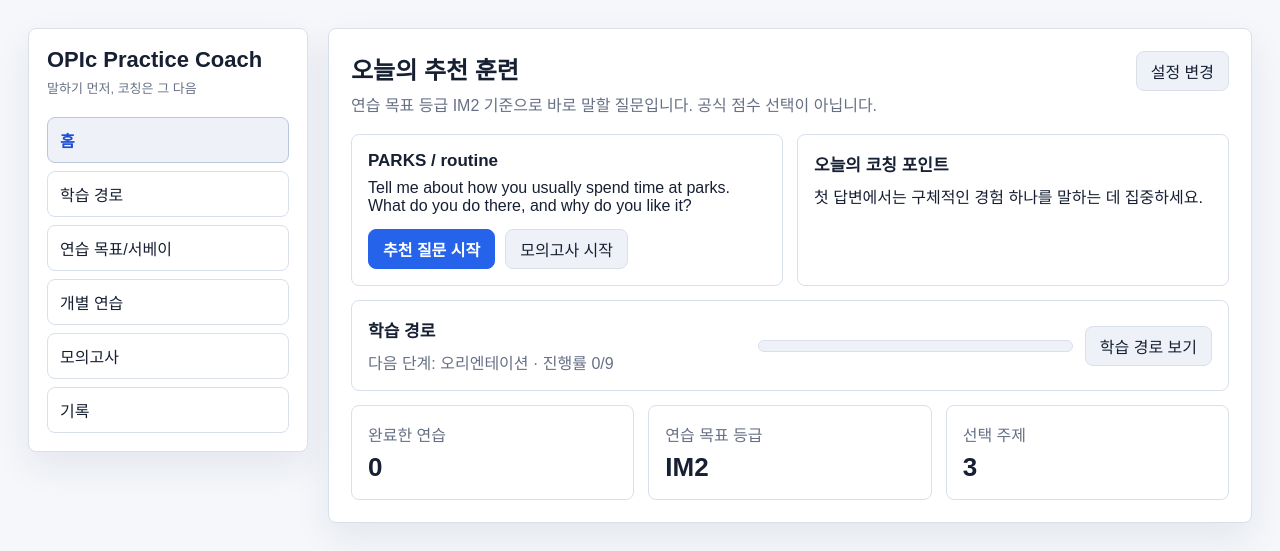
Test case: DS Interviewer prompt UI › limits mock prompt playback to one listen
This screenshot has width=1280, height=551.
Click the button "모의고사" at x=168, y=356, box [47,333,289,379]
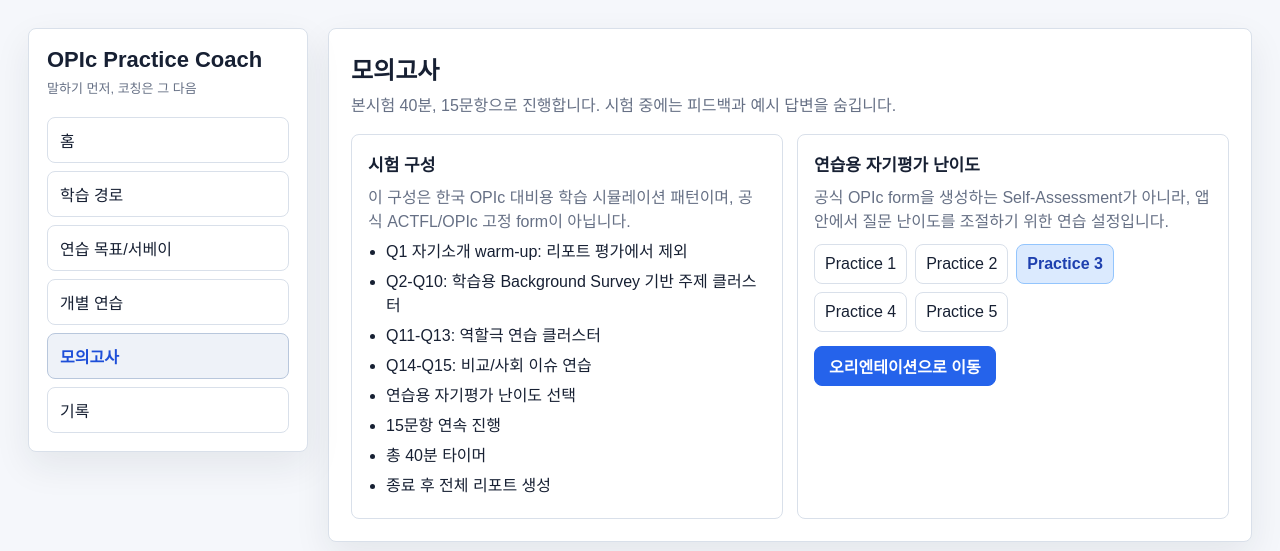
Click the button "오리엔테이션으로 이동" at x=905, y=366, box [814,346,996,386]
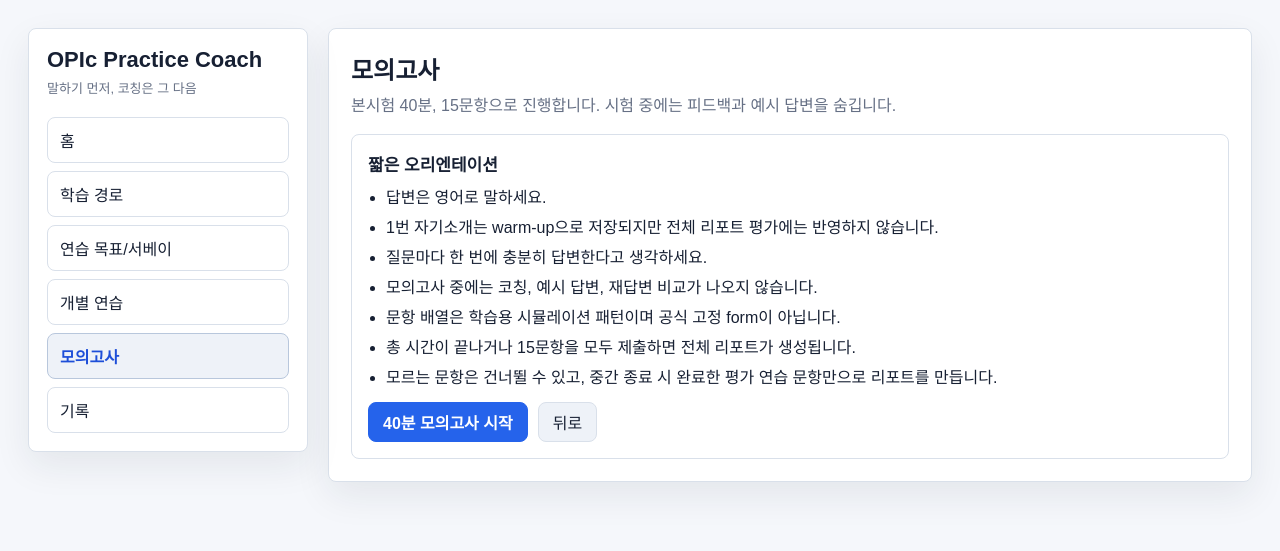
Click the button "40분 모의고사 시작" at x=448, y=422, box [368,402,528,442]
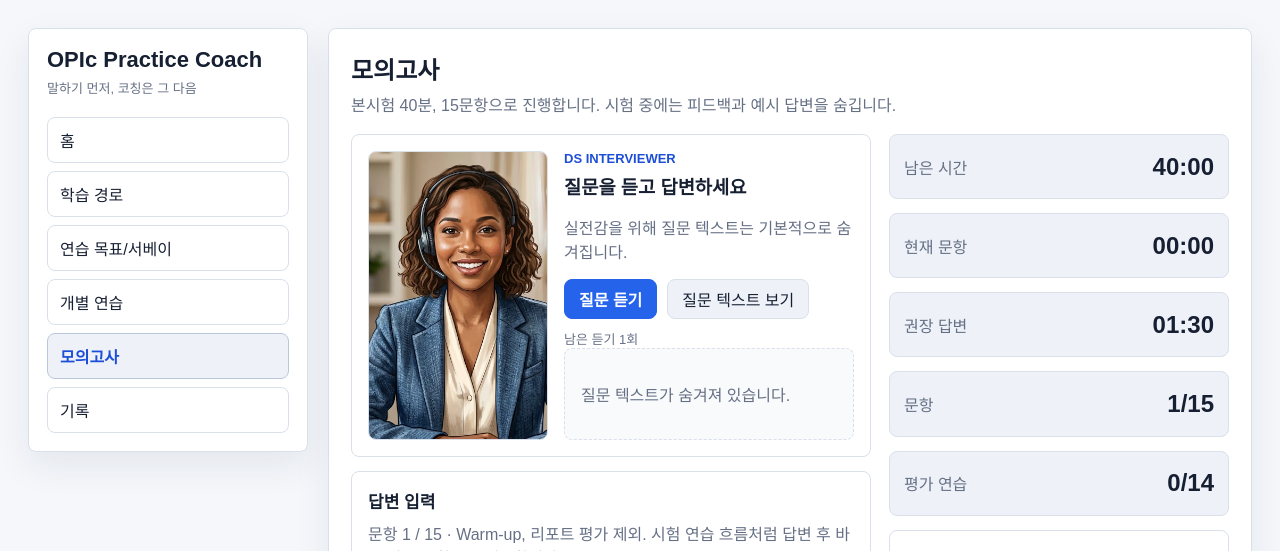
Click the button "질문 듣기" at x=611, y=299, box [564,279,657,319]
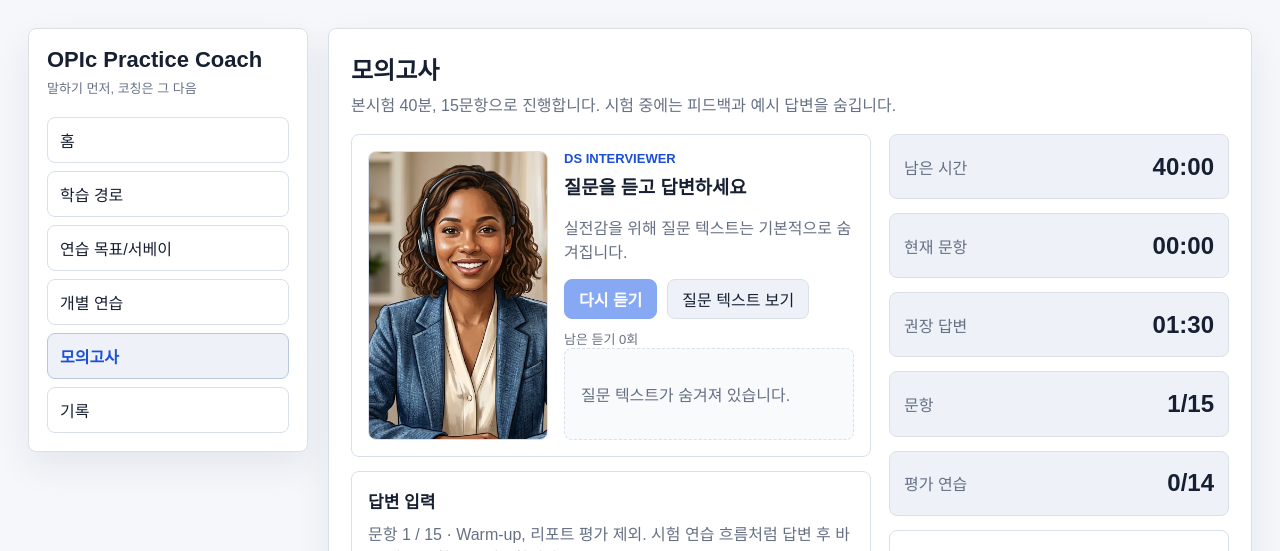
Now the text "남은 듣기 0회" is shown, box [564,329,638,348]
Now the button "다시 듣기" is disabled, box [564,279,657,319]
Click the button "질문 텍스트 보기" at x=738, y=299, box [667,279,809,319]
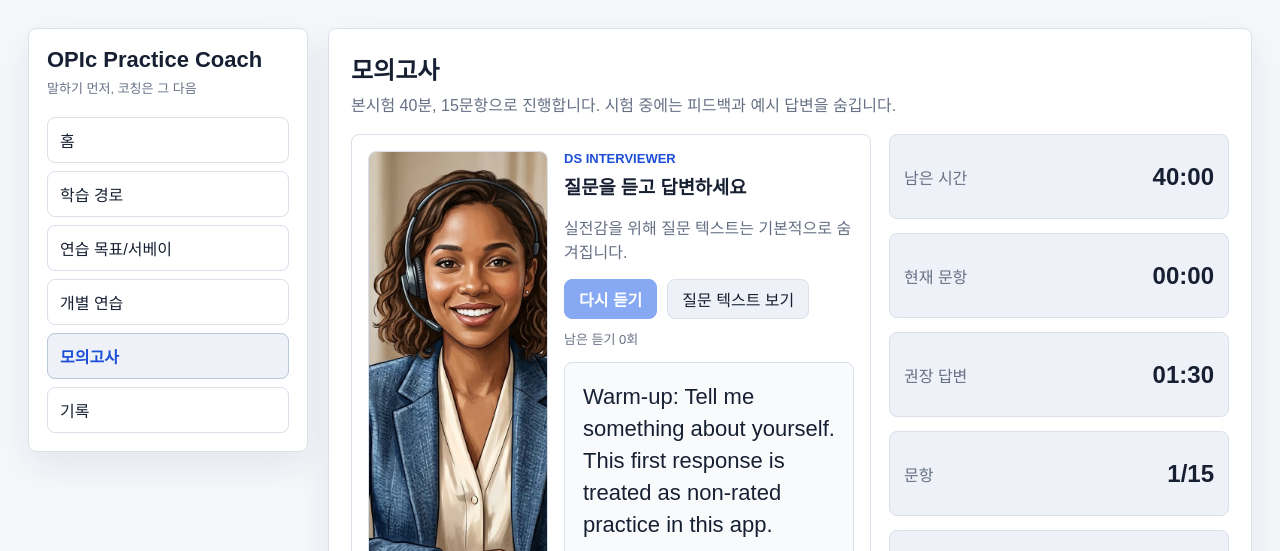
Now the text "Warm-up: Tell me something about yourself" is shown, box [583,384,835,537]
